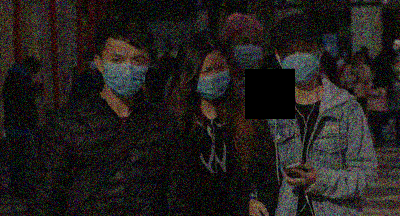with_mask: (99, 50, 150, 99), (282, 39, 321, 84), (194, 60, 232, 101), (230, 34, 264, 69)
